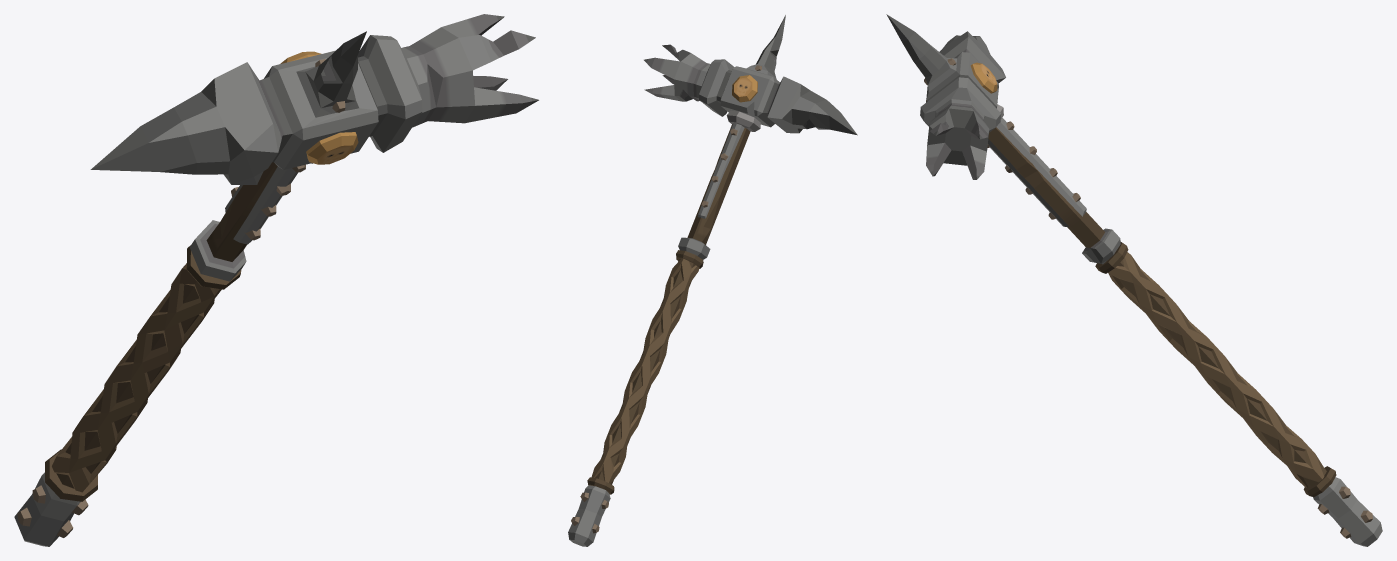
File: dk-hammer-01.glb
3 views of the same model, side by side, from view 1: azimuth 30°, elevation 25°; view 2: azimuth 150°, elevation 25°; view 3: azimuth 270°, elevation 25° (orthographic). The views are drawn at different scales.
Visible parts, largest first — view 1: dk-hammer-01; view 2: dk-hammer-01; view 3: dk-hammer-01.
Part boxes in pixels (box(x1,y1,x2,y2)): dk-hammer-01: box(14, 14, 538, 546); dk-hammer-01: box(568, 15, 857, 546); dk-hammer-01: box(886, 14, 1382, 546).
Size of the model in its own units: 0.5344 by 0.9626 by 0.8329.
1 material, 1 textured.
